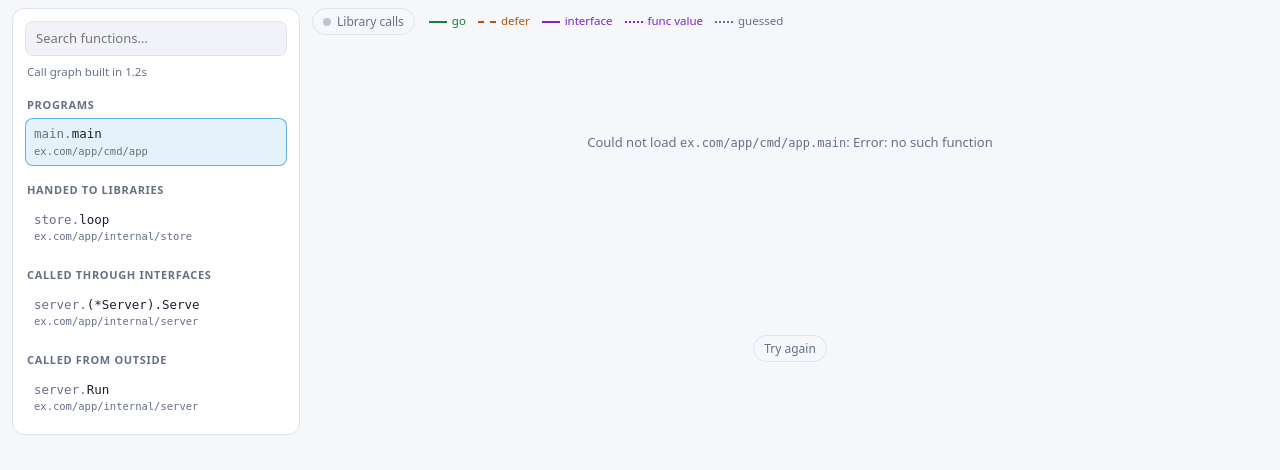
Test case: FlowView tree › says when the root cannot be loaded, and tries again on request
Expected: the text "Could not load" is shown, x1=587 y1=133 x2=680 y2=151
Expected: the text "no such function" is shown, x1=853 y1=133 x2=993 y2=151
Click the button "Try again": (790, 348) x1=753 y1=335 x2=827 y2=362
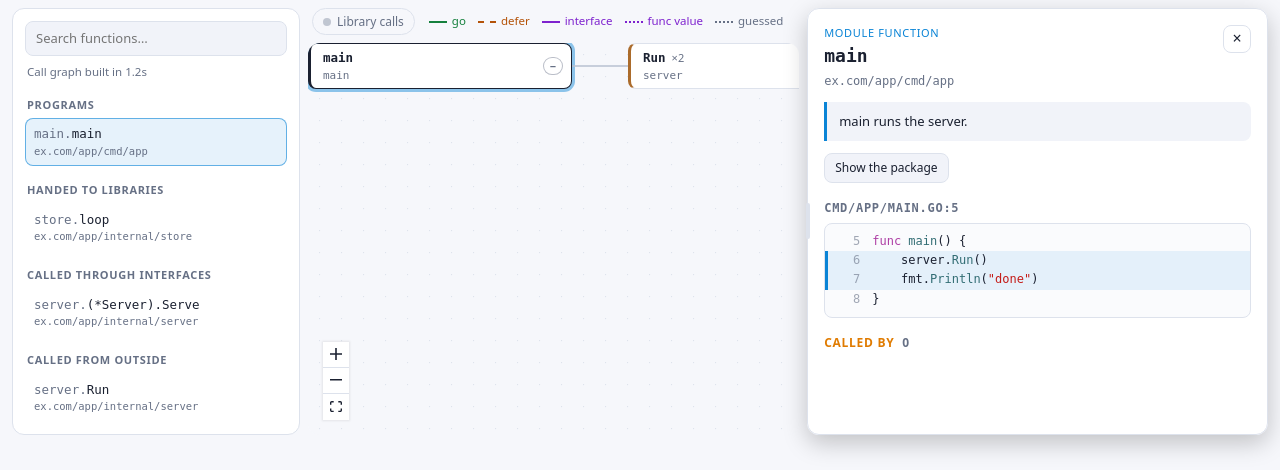
Now the element with class "react-flow__node" showing "Run ×2 server +3" is shown, box x1=628 y1=43 x2=799 y2=89
